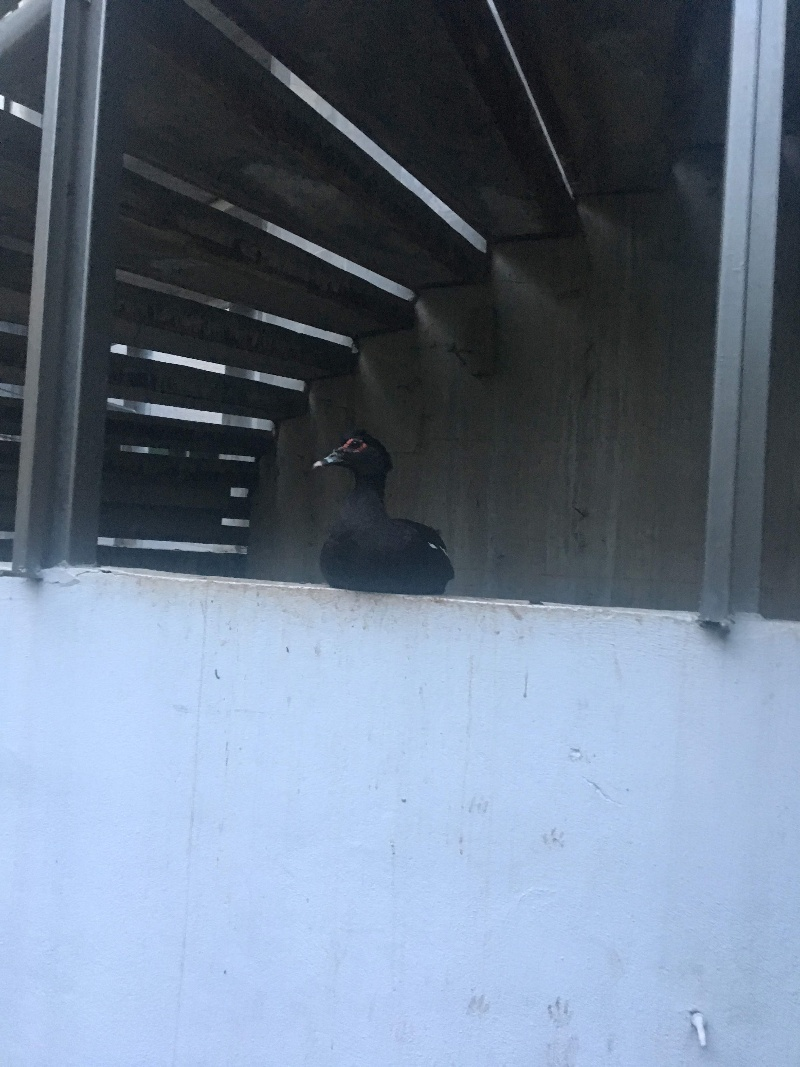pato: (317, 428, 453, 597)
